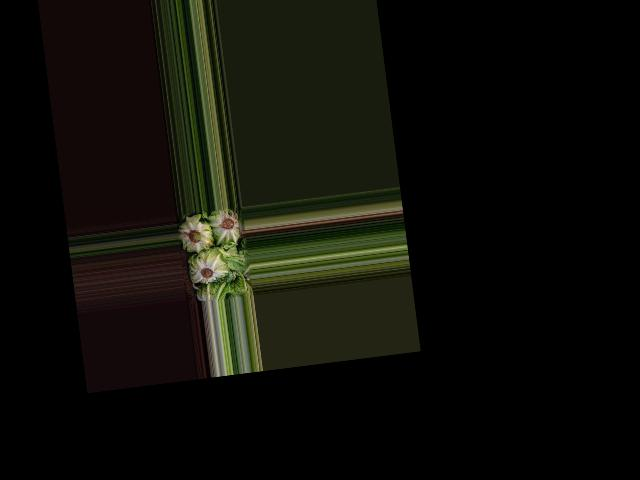lettuce: (207, 207, 242, 246)
